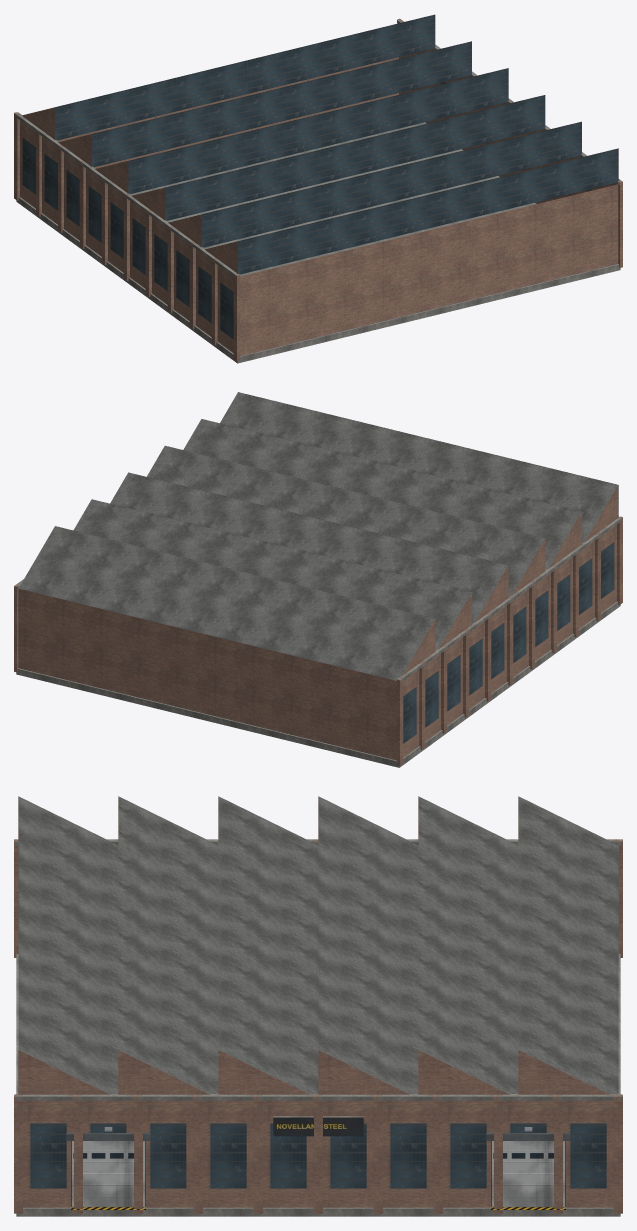
Rendered from wh_saw.glb.
3 renders of one model, top to bottom at view 1: azimuth 30°, elevation 25°; view 2: azimuth 150°, elevation 25°; view 3: azimuth 270°, elevation 25°, orthographic. The views are drawn at different scales.
Parts seen in each view (by area): view 1: body|props; view 2: body|props; view 3: body|props.
Part boxes in pixels (x1=…): body|props: x1=14, y1=14, x2=622, y2=363; body|props: x1=14, y1=392, x2=622, y2=767; body|props: x1=14, y1=796, x2=622, y2=1216.
Bounding box in the file's own units: 40.9 × 12.2 × 40.6.
Materials: 1 (1 with a texture image).
